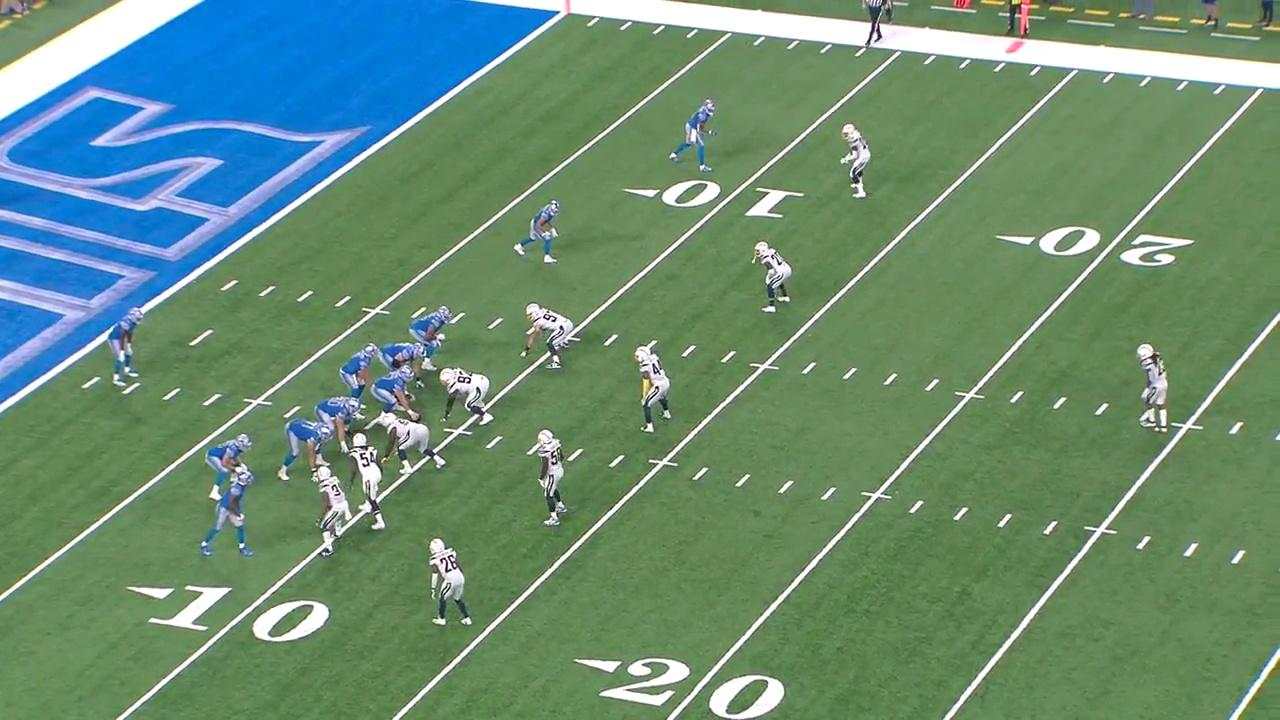player: (196, 468, 257, 560), (378, 410, 447, 475), (277, 416, 337, 486), (517, 301, 575, 372), (349, 434, 391, 532), (666, 97, 720, 172), (428, 537, 473, 627), (202, 430, 256, 503), (438, 362, 495, 430), (310, 466, 351, 559), (1134, 343, 1175, 436), (633, 345, 674, 435), (535, 429, 572, 526), (515, 199, 569, 265), (376, 338, 430, 402), (750, 239, 793, 316), (106, 304, 145, 388), (313, 394, 365, 455), (371, 364, 422, 426), (338, 342, 377, 422), (408, 304, 453, 372), (839, 122, 874, 200)
ref: (856, 0, 898, 54)
